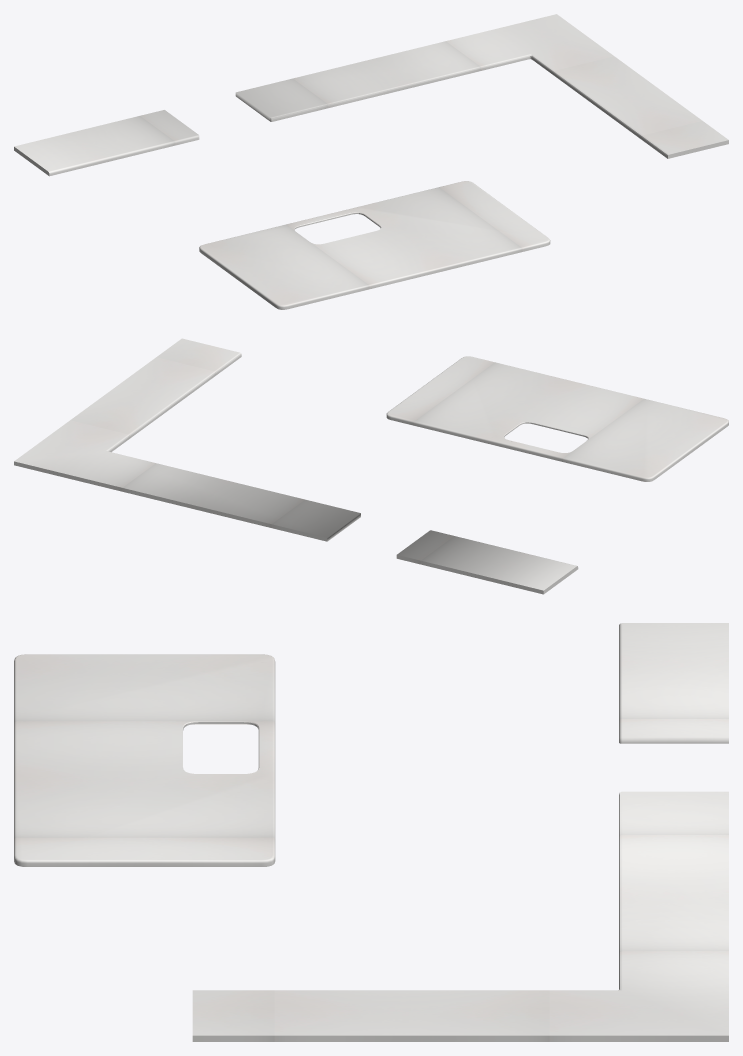
Rendered from Countertops_QuartzArcticWhite.glb.
3 views of the same model, one above another, from view 1: azimuth 30°, elevation 25°; view 2: azimuth 150°, elevation 25°; view 3: azimuth 270°, elevation 25° (orthographic). The views are drawn at different scales.
Visible parts, largest first — view 1: Countertop_quartz_arctic_white.001; view 2: Countertop_quartz_arctic_white.001; view 3: Countertop_quartz_arctic_white.001.
Boxes of the visible parts, bbox=[...] form: Countertop_quartz_arctic_white.001: bbox=[14, 14, 728, 309]; Countertop_quartz_arctic_white.001: bbox=[14, 338, 728, 594]; Countertop_quartz_arctic_white.001: bbox=[14, 623, 728, 1041].
Size of the model in its own units: 7.1 by 0.07 by 5.2.
Materials: 1 (1 with a texture image).
